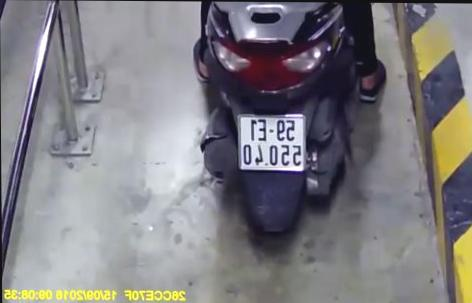License_Plate: (229, 110, 313, 176)
